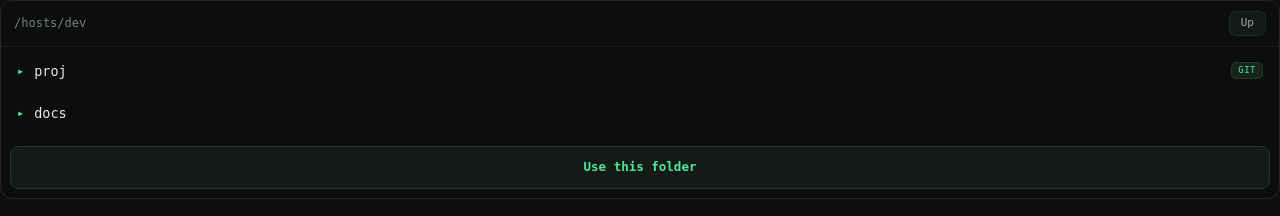
Test: DirectoryPicker › navigates into a folder when its row is clicked
The width and height of the screenshot is (1280, 216).
Click the button with aria-label "Open proj". click: {"x": 50, "y": 70}
box: [6, 52, 1274, 90]
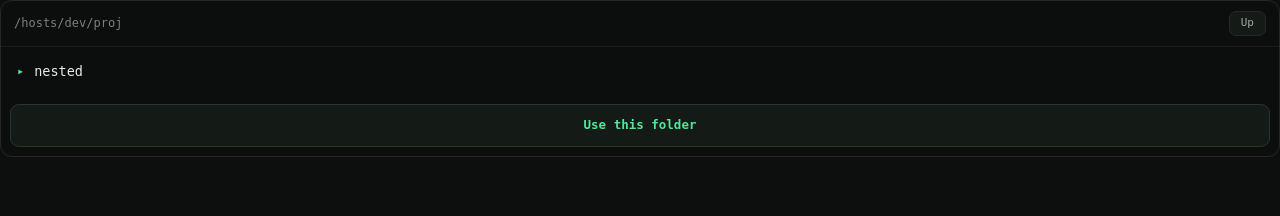
Expected: the button with aria-label "Open nested" is shown, [6, 52, 1274, 90]
Expected: the text with test id "directory-current" reads "/hosts/dev/proj", [14, 16, 122, 30]
